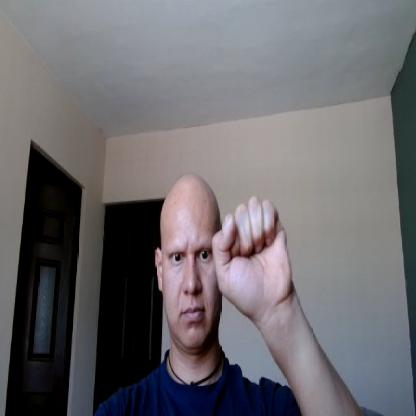S: (211, 194, 294, 316)
